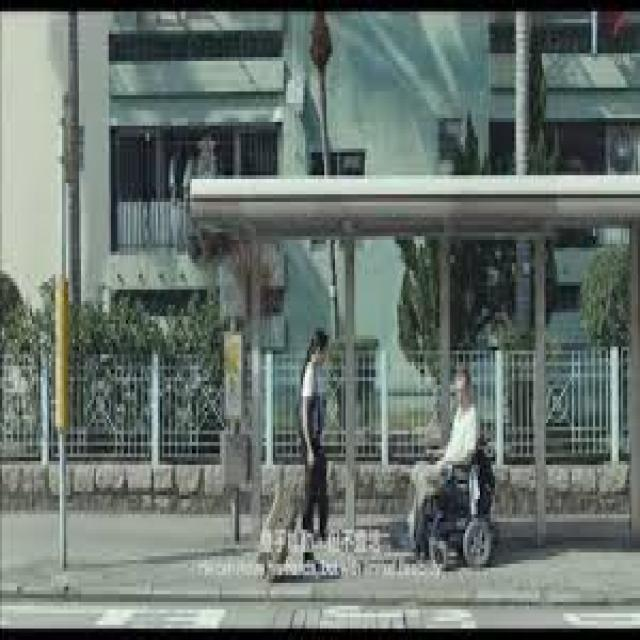wheelchairs: (414, 426, 508, 572)
